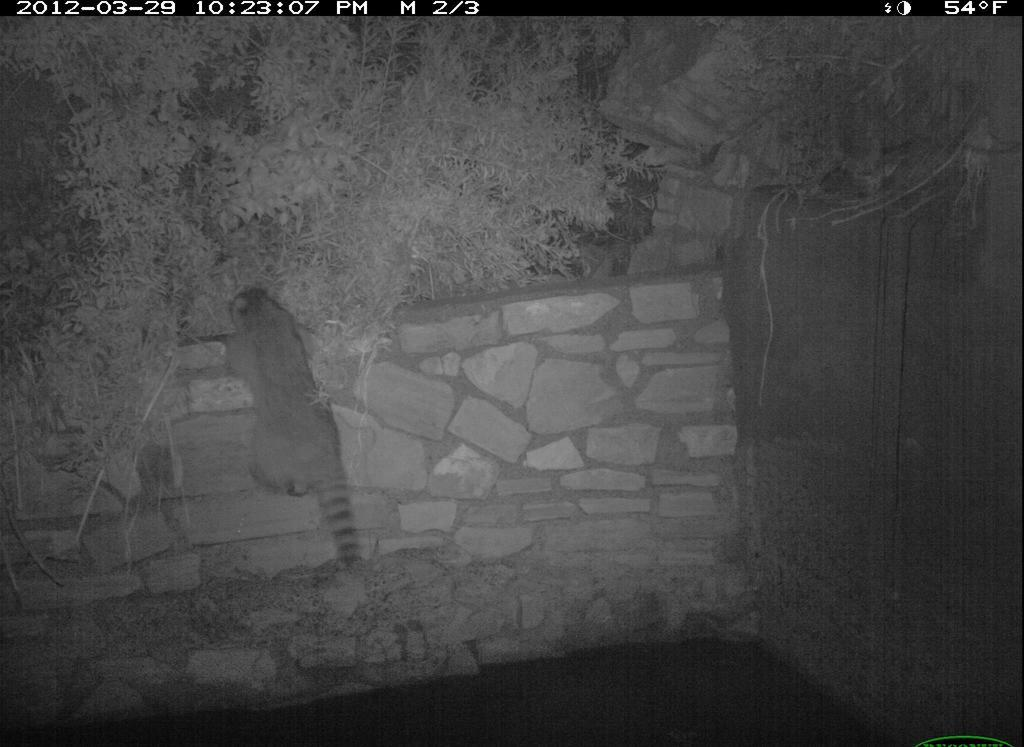raccoon: (210, 282, 377, 587)
